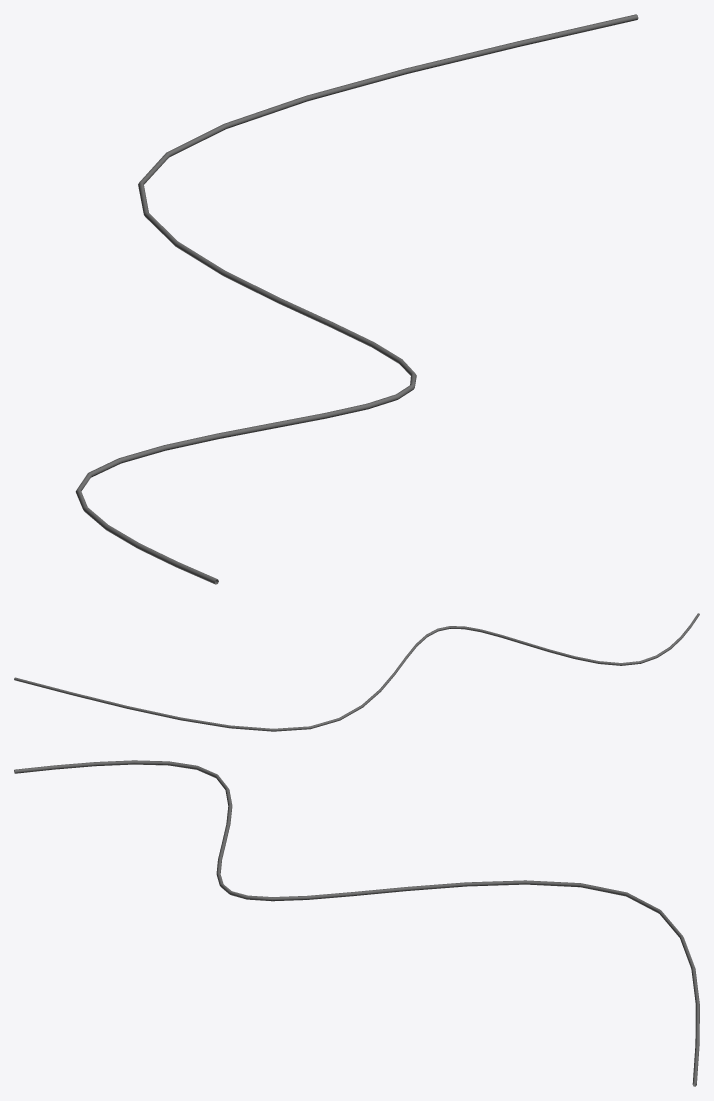
File: SM_Stage_Final_Wire_botton_04.fbx
3 views of the same model, one above another, from view 1: azimuth 30°, elevation 25°; view 2: azimuth 150°, elevation 25°; view 3: azimuth 270°, elevation 25° (orthographic). The views are drawn at different scales.
Parts seen in each view (by area): view 1: SM_Stage_Final_Wire_botton_04; view 2: SM_Stage_Final_Wire_botton_04; view 3: SM_Stage_Final_Wire_botton_04.
Boxes of the visible parts, <box> form: SM_Stage_Final_Wire_botton_04: <box>75,14,638,584</box>; SM_Stage_Final_Wire_botton_04: <box>14,613,699,731</box>; SM_Stage_Final_Wire_botton_04: <box>14,760,699,1086</box>.
Size of the model in its own units: 364 by 1.73 by 327.
1 material, 1 textured.
